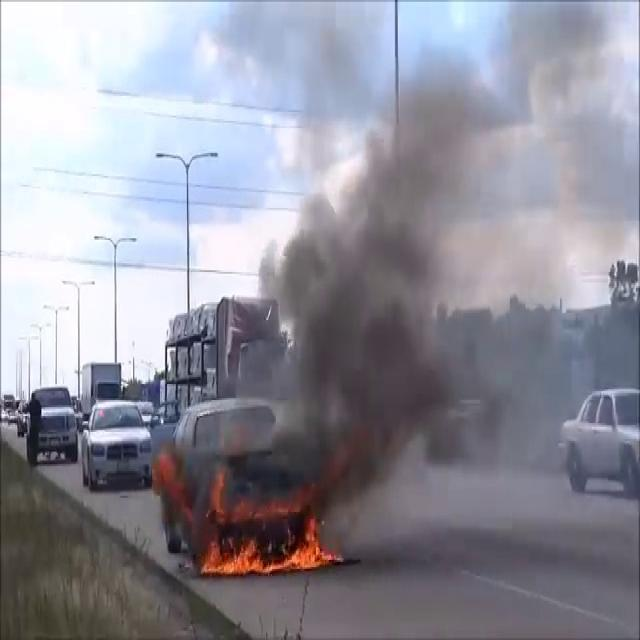Fire: (200, 492, 332, 578)
Smoke: (243, 8, 635, 547)
